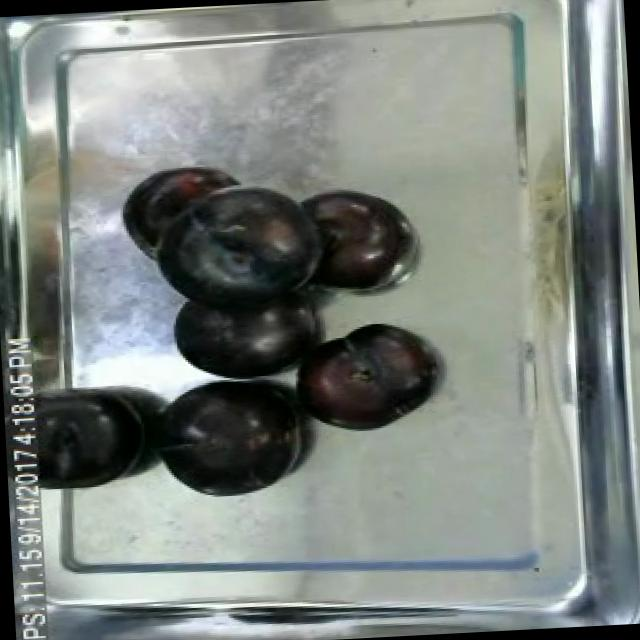Fruit: (118, 166, 324, 332), (138, 370, 312, 506), (282, 314, 442, 444), (298, 181, 413, 301)
